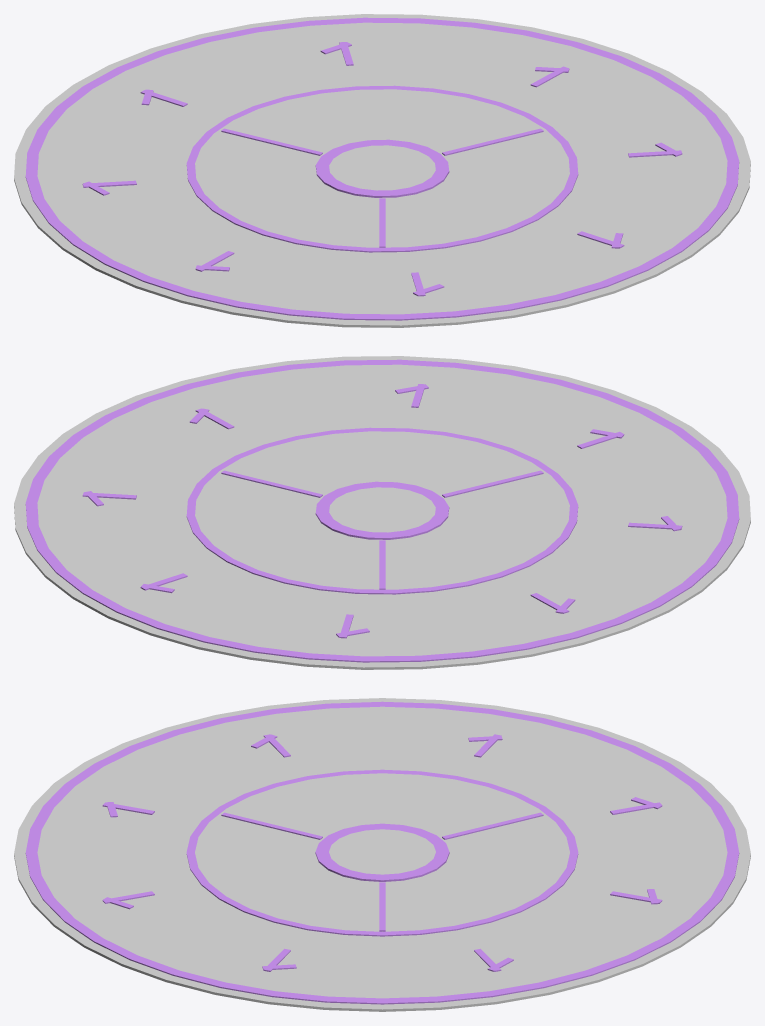
The model's file is CoreSigil.glb.
3 renders of one model, top to bottom at view 1: azimuth 30°, elevation 25°; view 2: azimuth 150°, elevation 25°; view 3: azimuth 270°, elevation 25°, orthographic.
Visible parts, largest first — view 1: Body, Glow; view 2: Body, Glow; view 3: Body, Glow.
Part boxes in pixels (x1,y1,x2,y2): Body: [14, 14, 750, 327]; Glow: [25, 17, 739, 320]; Body: [14, 356, 750, 669]; Glow: [25, 359, 739, 662]; Body: [14, 698, 750, 1011]; Glow: [25, 701, 739, 1004].
Bounding box in the file's own units: 22 × 0.14 × 22.
